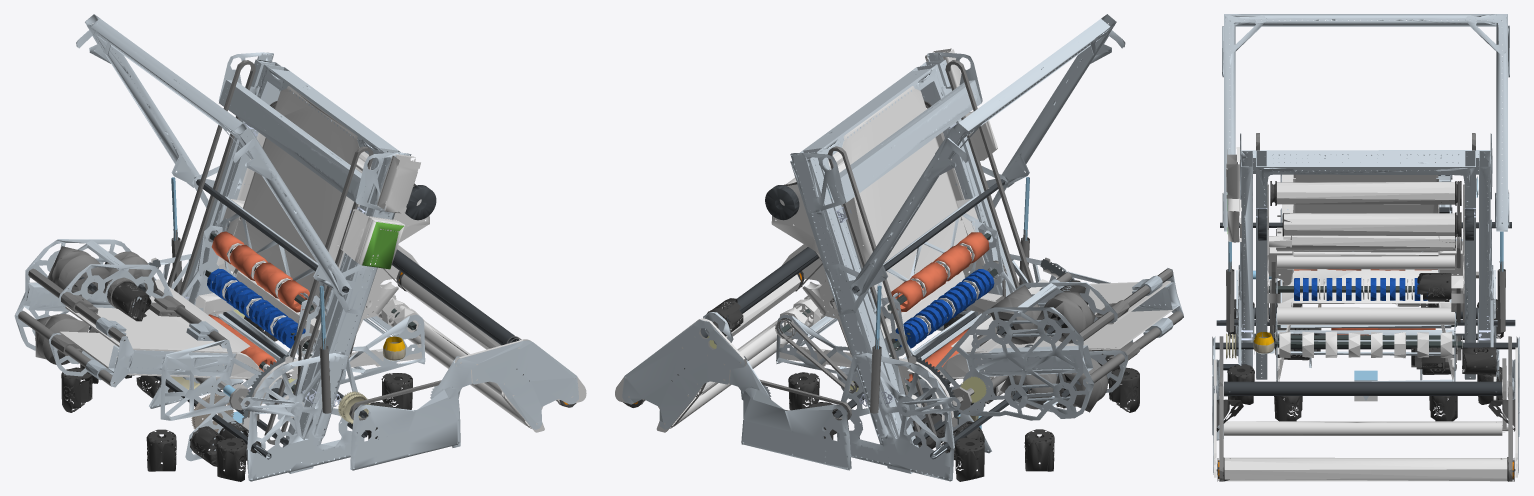
3 views of the same model, side by side, from view 1: azimuth 30°, elevation 25°; view 2: azimuth 150°, elevation 25°; view 3: azimuth 270°, elevation 25° (orthographic). The views are drawn at different scales.
Visible parts, largest first — view 1: body.mat_21, ampstage.mat_20, body.mat_20, body.mat_29, body.mat_2, ampstage.mat_21, body.mat_32, body._, body.mat_40, body.mat_16, body.mat_1, body.mat_0 (+4 smaller); view 2: body.mat_21, ampstage.mat_20, body.mat_29, body.mat_20, ampstage.mat_21, body.mat_2, body.mat_32, body.mat_40, body.mat_16, body.mat_1, body.mat_0, body._ (+3 smaller); view 3: ampstage.mat_20, body.mat_21, ampstage.mat_21, body.mat_20, body.mat_0, body.mat_32, body.mat_2, body._, body.mat_29, body.mat_28, body.mat_1, body.mat_16 (+8 smaller).
Part boxes in pixels (box(x1,y1,x2,y2)): body.mat_21: box(14, 14, 578, 481); ampstage.mat_20: box(216, 86, 429, 417); body.mat_20: box(59, 209, 586, 433); body.mat_29: box(18, 60, 441, 444); body.mat_2: box(61, 281, 412, 481); ampstage.mat_21: box(188, 64, 400, 447); body.mat_32: box(78, 177, 519, 459); body._: box(355, 154, 424, 338); body.mat_40: box(35, 246, 157, 364); body.mat_16: box(208, 231, 576, 407); body.mat_1: box(207, 268, 305, 348); body.mat_0: box(148, 244, 559, 426); body.mat_21: box(622, 14, 1183, 481); ampstage.mat_20: box(771, 86, 985, 416); body.mat_29: box(759, 60, 1183, 444); body.mat_20: box(615, 116, 1175, 432); ampstage.mat_21: box(800, 64, 1010, 447); body.mat_2: box(705, 280, 1139, 481); body.mat_32: box(700, 177, 1087, 459); body.mat_40: box(990, 285, 1108, 412); body.mat_16: box(623, 232, 989, 407); body.mat_1: box(895, 269, 994, 348); body.mat_0: box(643, 257, 1063, 426); body._: box(779, 48, 1005, 395); ampstage.mat_20: box(1244, 154, 1464, 324); body.mat_21: box(1212, 14, 1519, 474); ampstage.mat_21: box(1253, 150, 1478, 379); body.mat_20: box(1214, 174, 1517, 477); body.mat_0: box(1224, 267, 1507, 481); body.mat_32: box(1215, 175, 1516, 474); body.mat_2: box(1227, 280, 1503, 421); body._: box(1226, 147, 1452, 358); body.mat_29: box(1219, 133, 1511, 386); body.mat_28: box(1269, 286, 1463, 347); body.mat_1: box(1294, 278, 1427, 300); body.mat_16: box(1216, 269, 1515, 481).
Bounding box in the file's own units: 1.02 × 0.854 × 0.6731.
